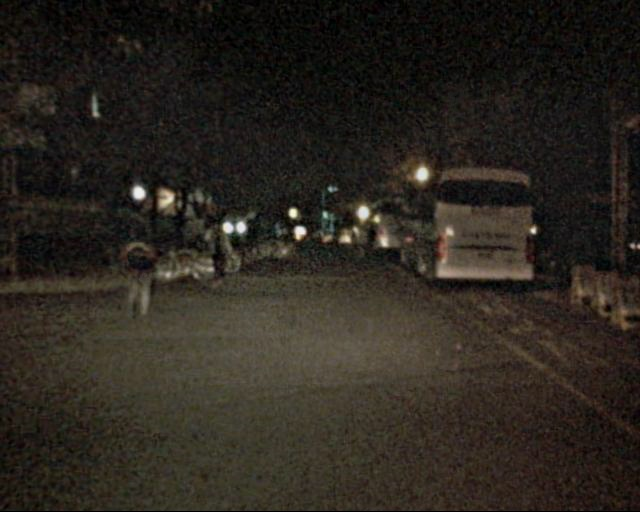person: (120, 216, 165, 325), (202, 214, 230, 283), (354, 225, 380, 262)
